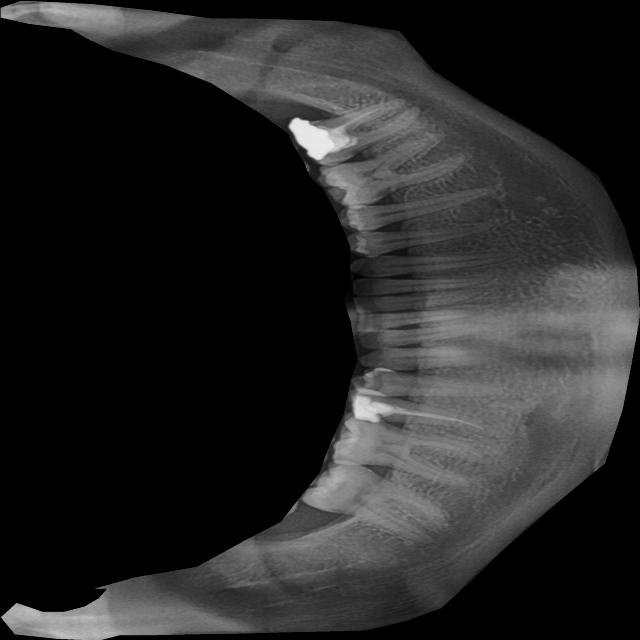mandibula: (1, 0, 640, 640)
